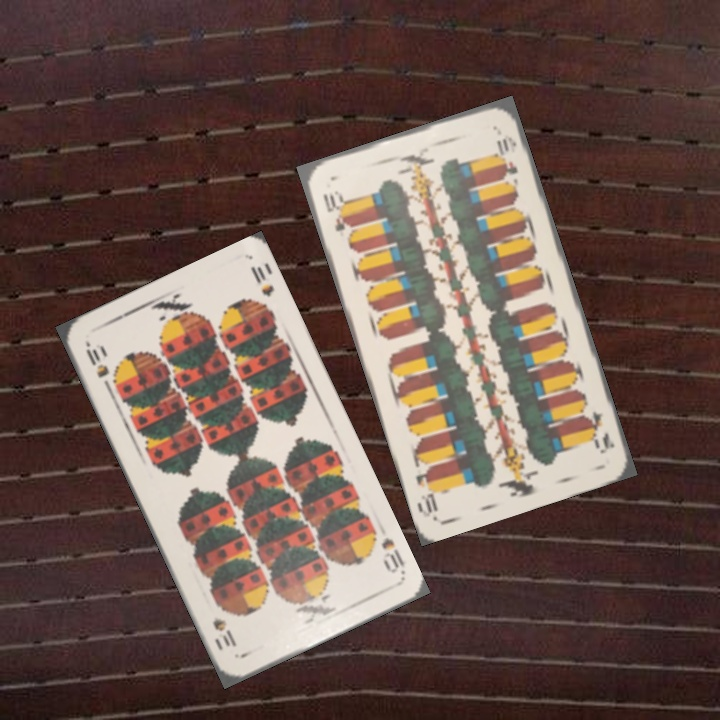E10: (579, 401, 618, 456), (318, 186, 351, 235)
S10: (81, 338, 115, 394), (377, 533, 408, 576)
